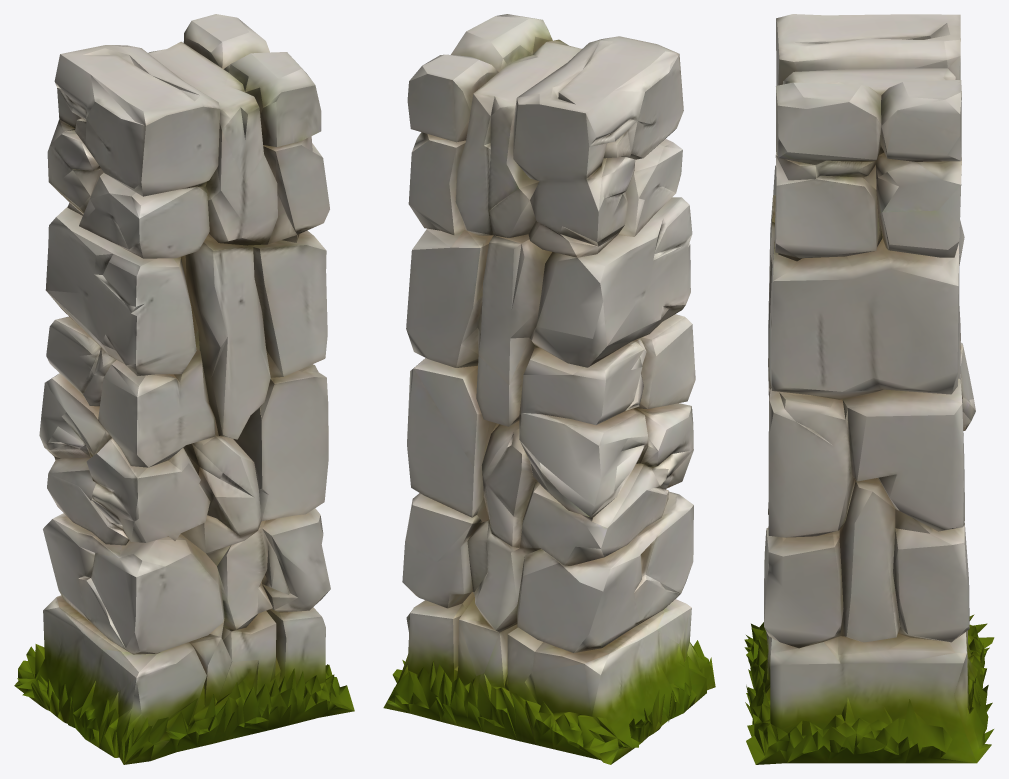
Rendered from m2RockPillarBg.glb.
3 views of the same model, side by side, from view 1: azimuth 30°, elevation 25°; view 2: azimuth 150°, elevation 25°; view 3: azimuth 270°, elevation 25° (orthographic). The views are drawn at different scales.
Parts seen in each view (by area): view 1: model; view 2: model; view 3: model.
Part boxes in pixels (x1,y1,x2,y2): model: (14,14,354,764); model: (383,14,715,764); model: (744,14,994,764).
Size of the model in its own units: 0.7856 by 1.9 by 0.6578.
Materials: 1 (1 with a texture image).
